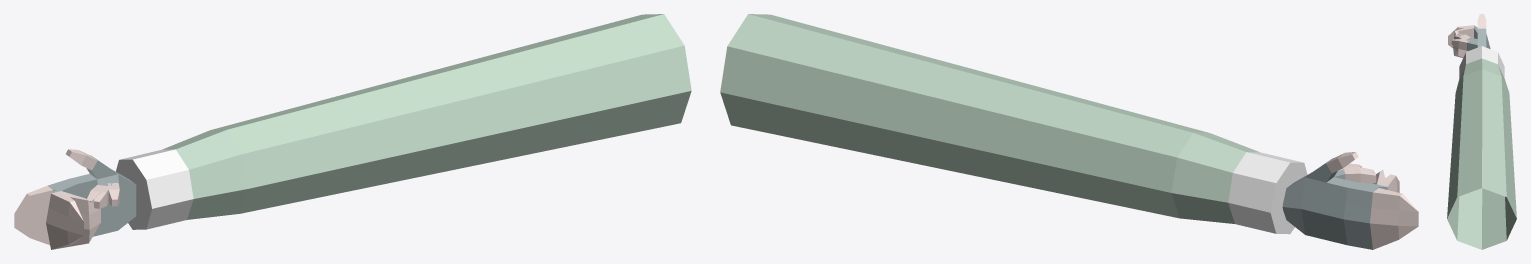
File: ArmModel.fbx
The picture shows the model from 3 angles, left to right: view 1: azimuth 30°, elevation 25°; view 2: azimuth 150°, elevation 25°; view 3: azimuth 270°, elevation 25°; orthographic projection. The views are drawn at different scales.
Visible parts, largest first — view 1: Arm, HandPoint, HandHold, HandGrab, HandOpen, HandSalute; view 2: Arm, HandPoint, HandOpen, HandHold, HandSalute; view 3: Arm, HandHold, HandOpen, HandPoint, HandGrab.
Part boxes in pixels (box(x1,y1,x2,y2)): Arm: box(116, 14, 691, 229); HandPoint: box(15, 169, 136, 249); HandHold: box(46, 174, 136, 249); HandGrab: box(51, 175, 136, 247); HandOpen: box(14, 149, 135, 244); HandSalute: box(14, 178, 135, 244); Arm: box(720, 14, 1307, 234); HandPoint: box(1282, 166, 1418, 245); HandOpen: box(1283, 152, 1418, 249); HandHold: box(1283, 163, 1399, 233); HandSalute: box(1282, 168, 1376, 232); Arm: box(1447, 46, 1516, 249); HandHold: box(1448, 25, 1490, 50); HandOpen: box(1477, 14, 1486, 44); HandPoint: box(1453, 34, 1488, 57); HandGrab: box(1453, 26, 1477, 56).
Size of the model in its own units: 1.26 by 0.2153 by 0.2.
